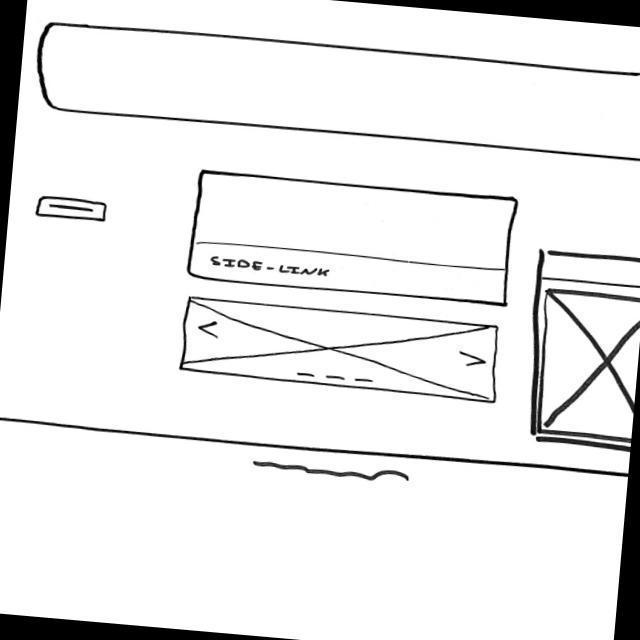container: (32, 19, 640, 163), (184, 168, 519, 308), (518, 246, 640, 453)
icon-button: (34, 195, 109, 224)
image: (179, 294, 505, 406), (532, 286, 640, 442)
label: (206, 255, 333, 280)
text: (251, 455, 413, 487)
